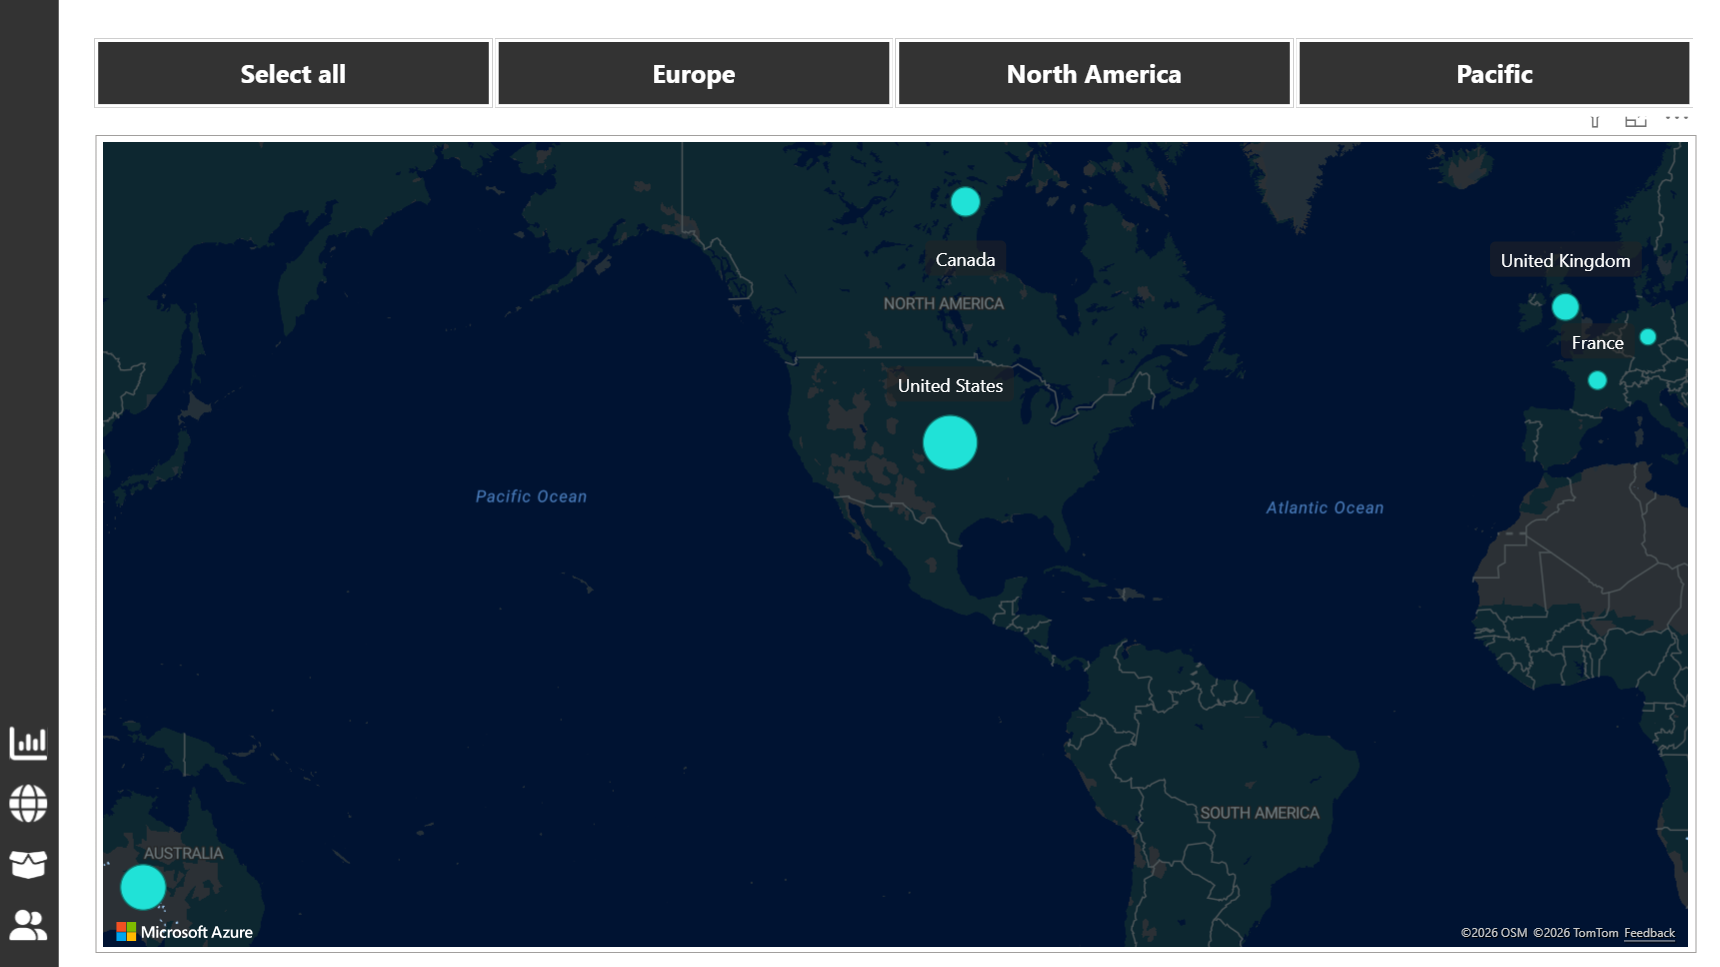

Layout of this report page (visuals, bound fields, positions):
{"tool":"powerbi","page":{"name":"Map","canvas":[1280,720],"ordinal":1},"visuals":[{"type":"shape","box":[0,0,45,720],"z":0},{"type":"actionButton","box":[4.5,529.6,36.2,41.1],"z":0,"group":"g1"},{"type":"azureMap","fields":{"Category":["Territory Lookup.Country"],"Size":["Measure Table.Total Orders"]},"box":[72.2,99.6,1185,606.2],"z":1000},{"type":"actionButton","box":[4.5,574.5,36.2,41.1],"z":1000,"group":"g1"},{"type":"group","id":"g1","title":"Navigation Buttons","box":[4.5,529.6,36.2,175.8],"z":2000},{"type":"actionButton","box":[4.5,619.4,36.2,41.1],"z":2000,"group":"g1"},{"type":"slicer","fields":{"Values":["Territory Lookup.Continent"]},"box":[46,20.8,1234.3,65.6],"z":3000},{"type":"actionButton","box":[4.5,664.3,36.2,41.1],"z":3000,"group":"g1"}]}

Visuals, with their boxes on the page's 1280x720 design canvas (x1, y1, x2, y2). These are canvas units, not pixel positions in the 1720x967 screenshot, which may show the page scaled, cropped or inside an application window:
shape: Rect(0, 0, 45, 720)
actionButton: Rect(4, 530, 41, 571)
azureMap - Territory Lookup.Country x Measure Table.Total Orders: Rect(72, 100, 1257, 706)
actionButton: Rect(4, 574, 41, 616)
"Navigation Buttons" group: Rect(4, 530, 41, 705)
actionButton: Rect(4, 619, 41, 660)
slicer - Territory Lookup.Continent: Rect(46, 21, 1280, 86)
actionButton: Rect(4, 664, 41, 705)
